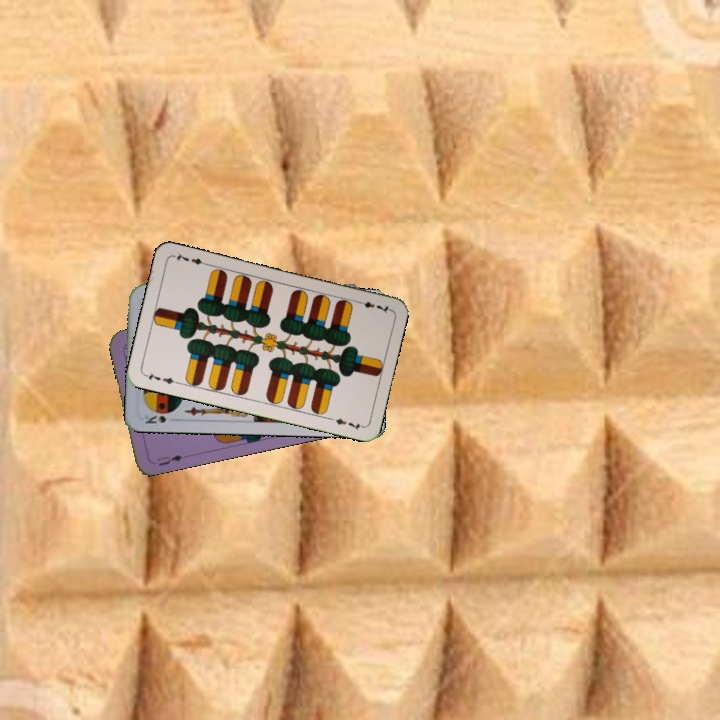E7: (352, 296, 392, 316), (141, 369, 181, 387)
EU: (153, 451, 185, 468)
SK: (141, 411, 169, 426)
